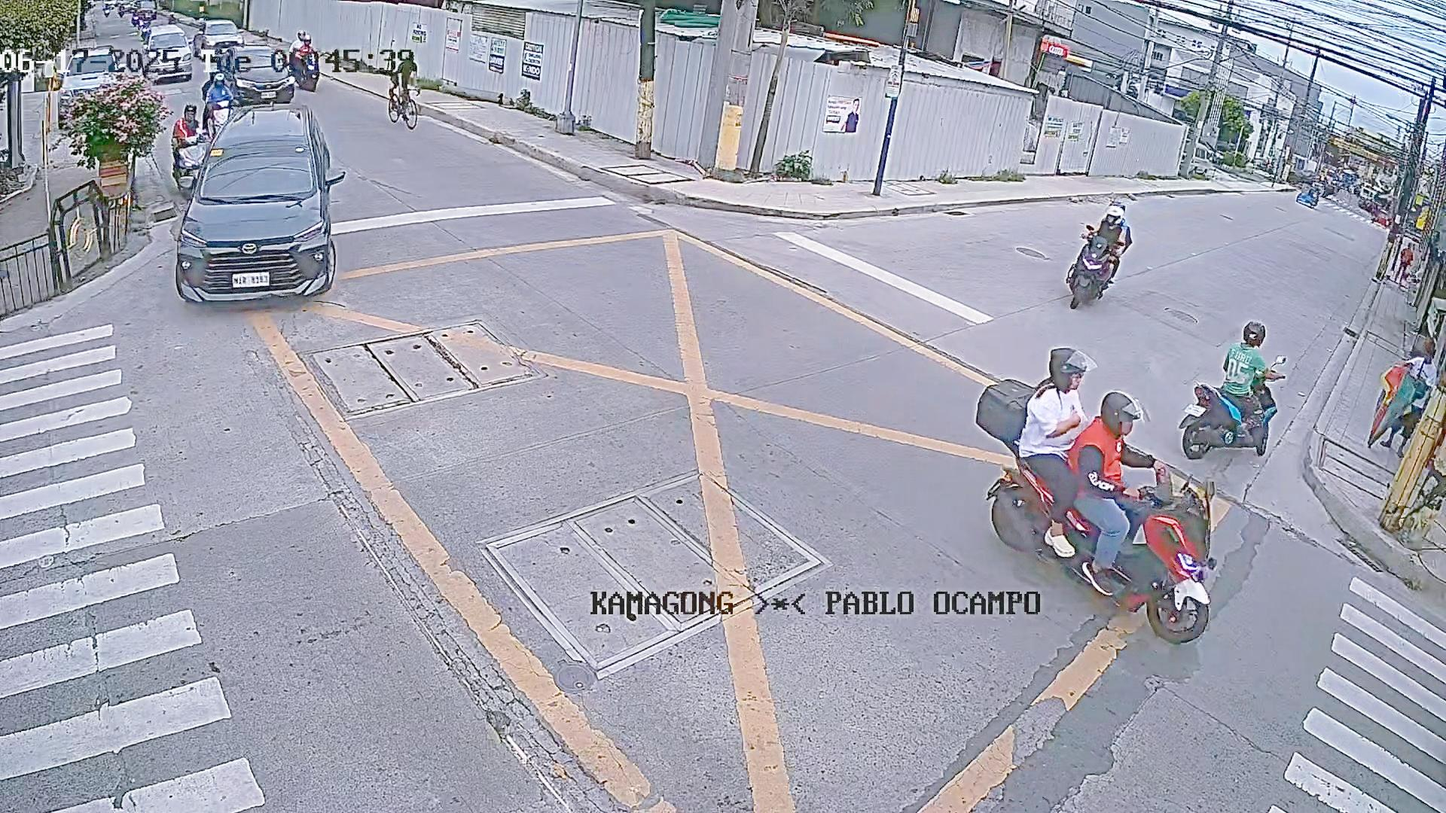Car: (193, 110, 432, 337), (215, 44, 304, 105), (139, 18, 207, 94)
Motor: (949, 326, 1197, 693), (1191, 308, 1309, 470), (1032, 173, 1133, 320), (148, 100, 209, 223), (288, 22, 330, 94), (199, 64, 237, 143)
Not Accident: (151, 104, 358, 280)
